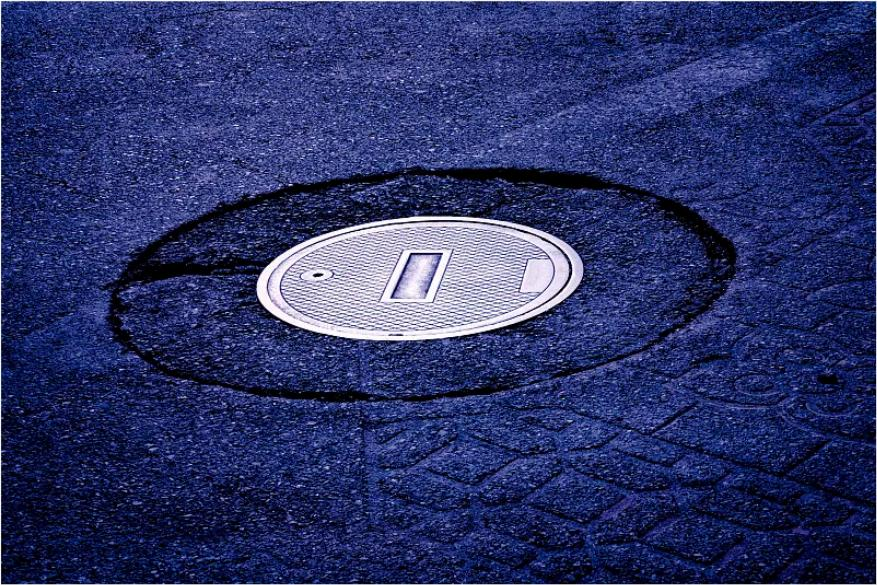wellcover: (224, 156, 609, 392)
